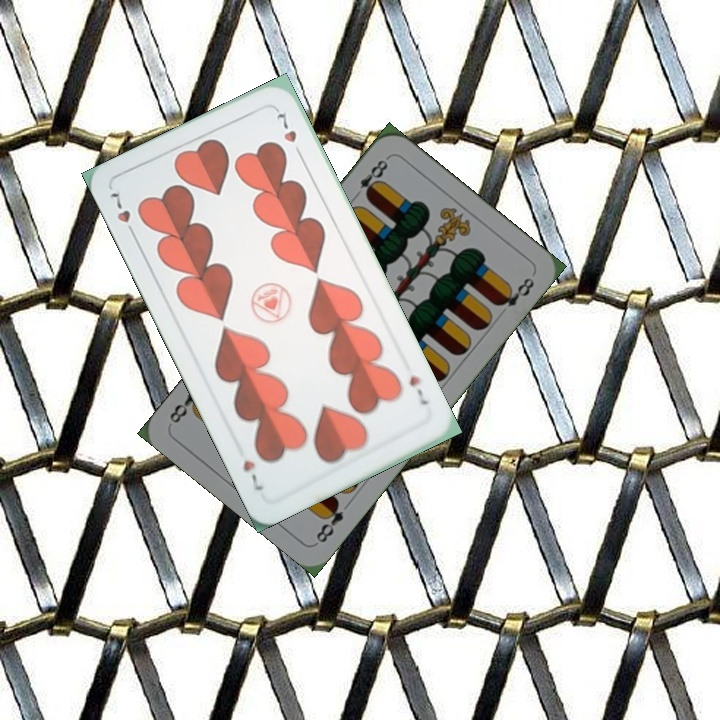E8: (348, 153, 391, 202), (312, 495, 347, 546)
H7: (105, 186, 140, 241), (405, 371, 431, 408)
